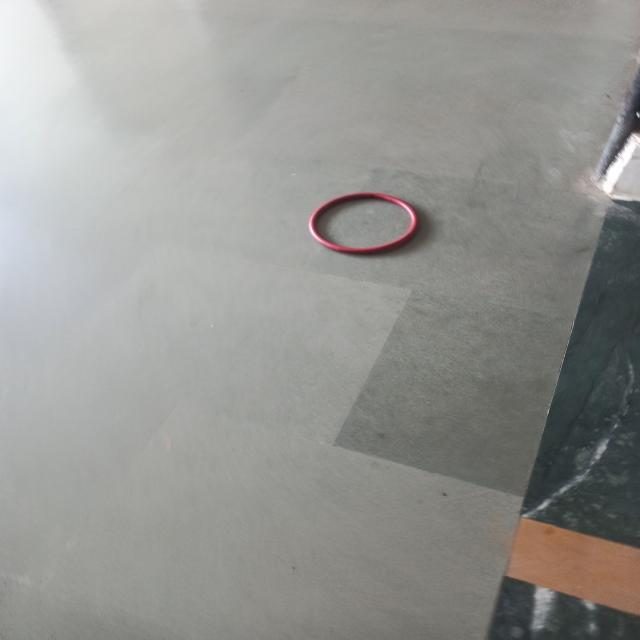daire: (310, 189, 417, 256)
